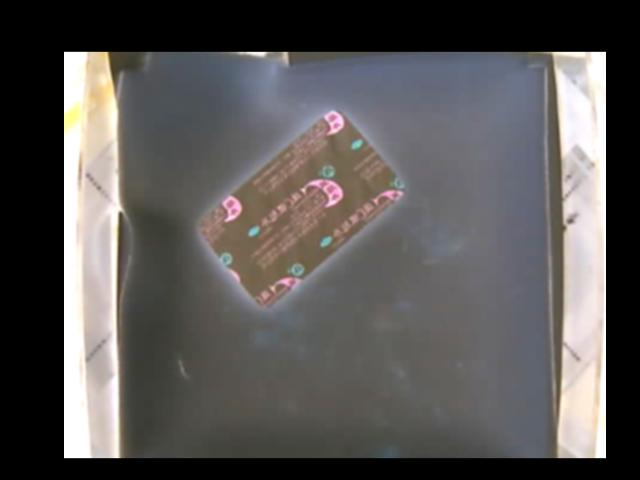Medicine: (196, 110, 399, 308)
